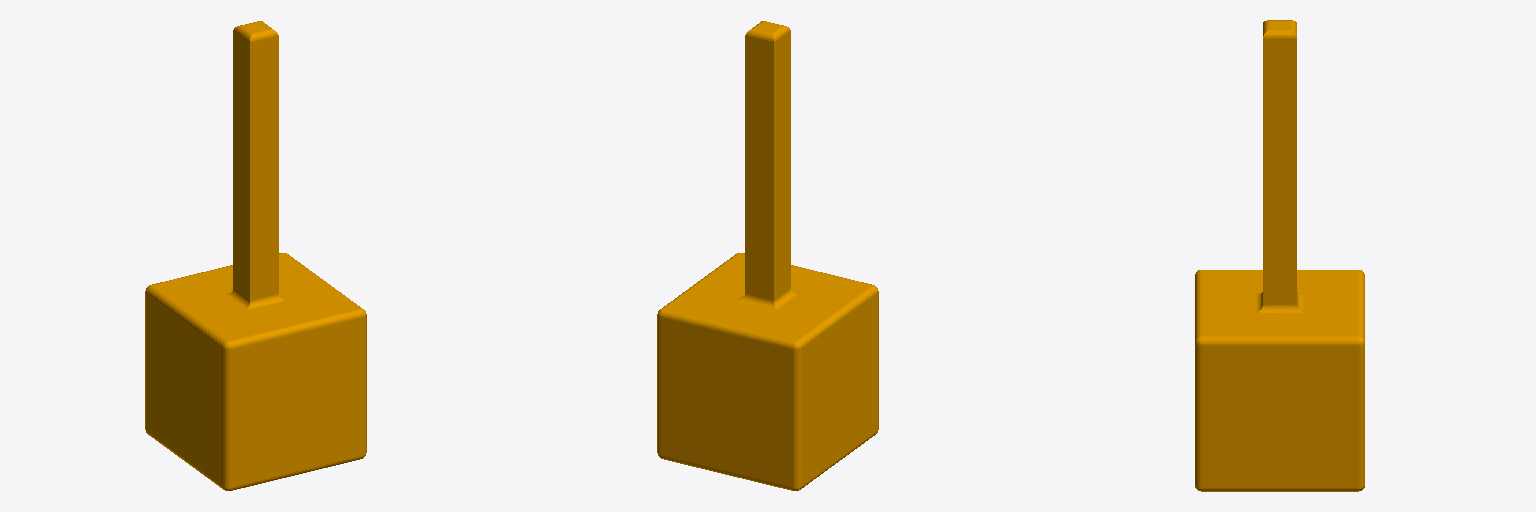
robot.urdf — benchmark_part_6:
<robot name="benchmark_part_6">
  <link name="base_link">
    <visual>
      <geometry>
        <mesh filename="benchmark_parts_stl/benchmark_part_6.stl" scale="0.001 0.001 0.001" />
      </geometry>
    <origin xyz="0.03707106783590192 0.00015789995258960336 -0.02961287618909173" rpy="0 0 0" /></visual>
    <collision>
      <geometry>
        <mesh filename="benchmark_parts_stl/benchmark_part_6_vhacd.obj" scale="0.01 0.01 0.01" />
      </geometry>
    <origin xyz="0.03707106783590192 0.00015789995258960336 -0.02961287618909173" rpy="0 0 0" /></collision>
    <inertial>
      <mass value="0.1" />
      <inertia ixx="0.001" ixy="0.0" ixz="0.0" iyy="0.001" iyz="0.0" izz="0.001" />
    </inertial>
  </link>
</robot>

--- Facts derived from the render (not from the file) ---
Views: 3 orthographic renders of the robot side by side, from view 1: azimuth 30°, elevation 25°; view 2: azimuth 150°, elevation 25°; view 3: azimuth 270°, elevation 25°.
Robot: benchmark_part_6 — 1 links, 0 joints (none); root link base_link; default pose: all joints at 0.
Visible links, largest first — view 1: base_link; view 2: base_link; view 3: base_link.
Boxes of the visible links, x1,y1,x2,y2 form: base_link: (145, 21, 366, 490); base_link: (657, 21, 878, 490); base_link: (1195, 20, 1364, 491).
Size in the robot's own frame: 0.05 by 0.05 by 0.14 metres.
1 mesh visuals loaded from 1 distinct referenced files (1 binary STL).